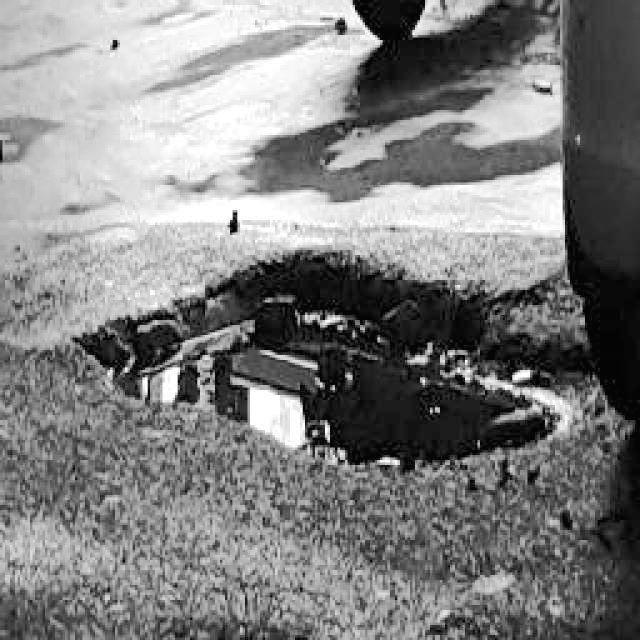Pothole: (60, 243, 571, 478)
